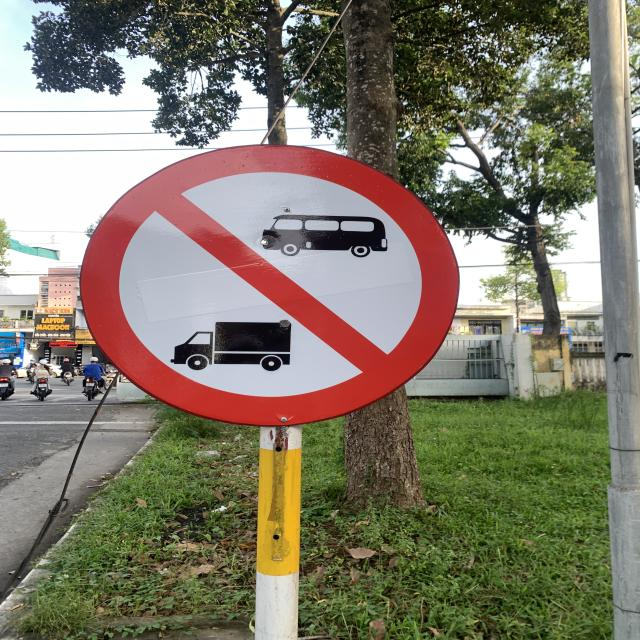Cam_XeTai_XeKhach: (83, 140, 461, 428)
